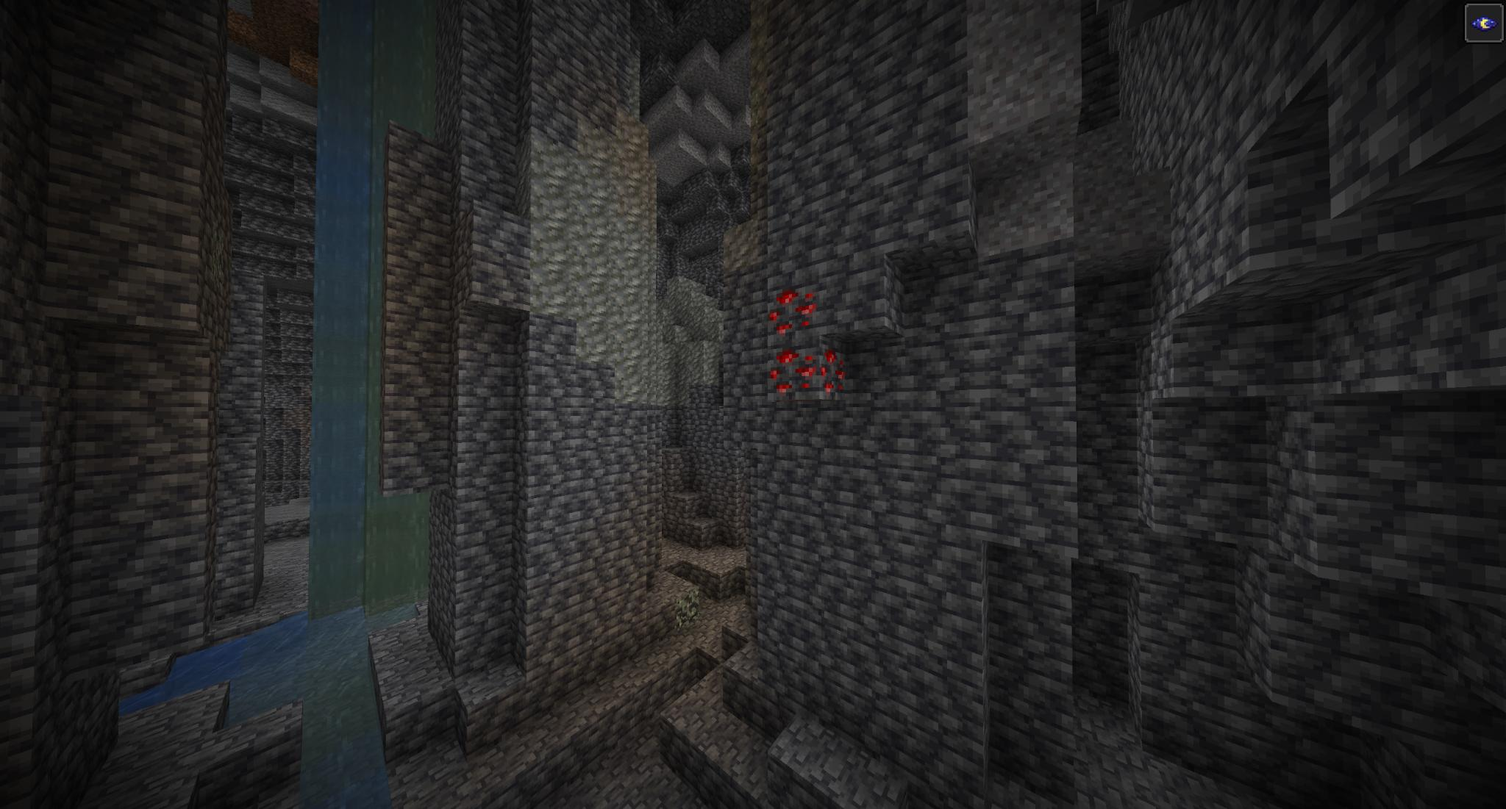redstone ore: (771, 345, 850, 400), (764, 282, 823, 335)
